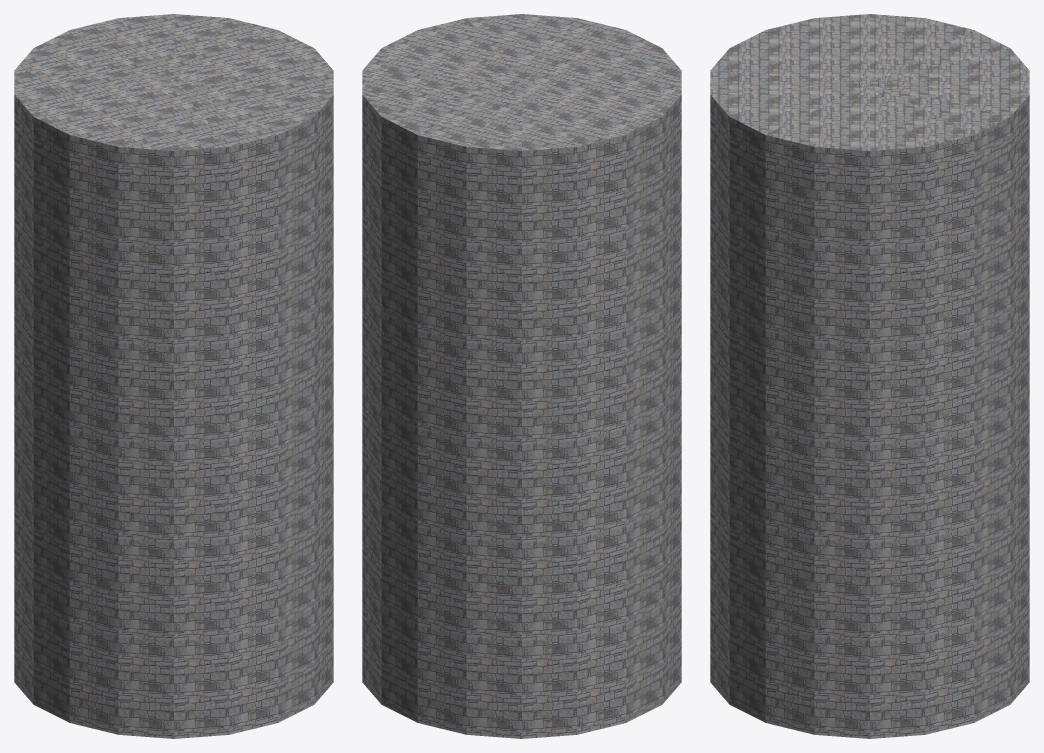
Rendered from WatchTowerBottom.obj.
3 renders of one model, left to right at view 1: azimuth 30°, elevation 25°; view 2: azimuth 150°, elevation 25°; view 3: azimuth 270°, elevation 25°, orthographic.
Parts seen in each view (by area): view 1: WatchTowerBottom; view 2: WatchTowerBottom; view 3: WatchTowerBottom.
Part boxes in pixels (x1,y1,x2,y2): WatchTowerBottom: [14, 14, 333, 738]; WatchTowerBottom: [362, 14, 681, 738]; WatchTowerBottom: [710, 14, 1029, 738].
Bounding box in the file's own units: 8 × 16 × 7.88.
